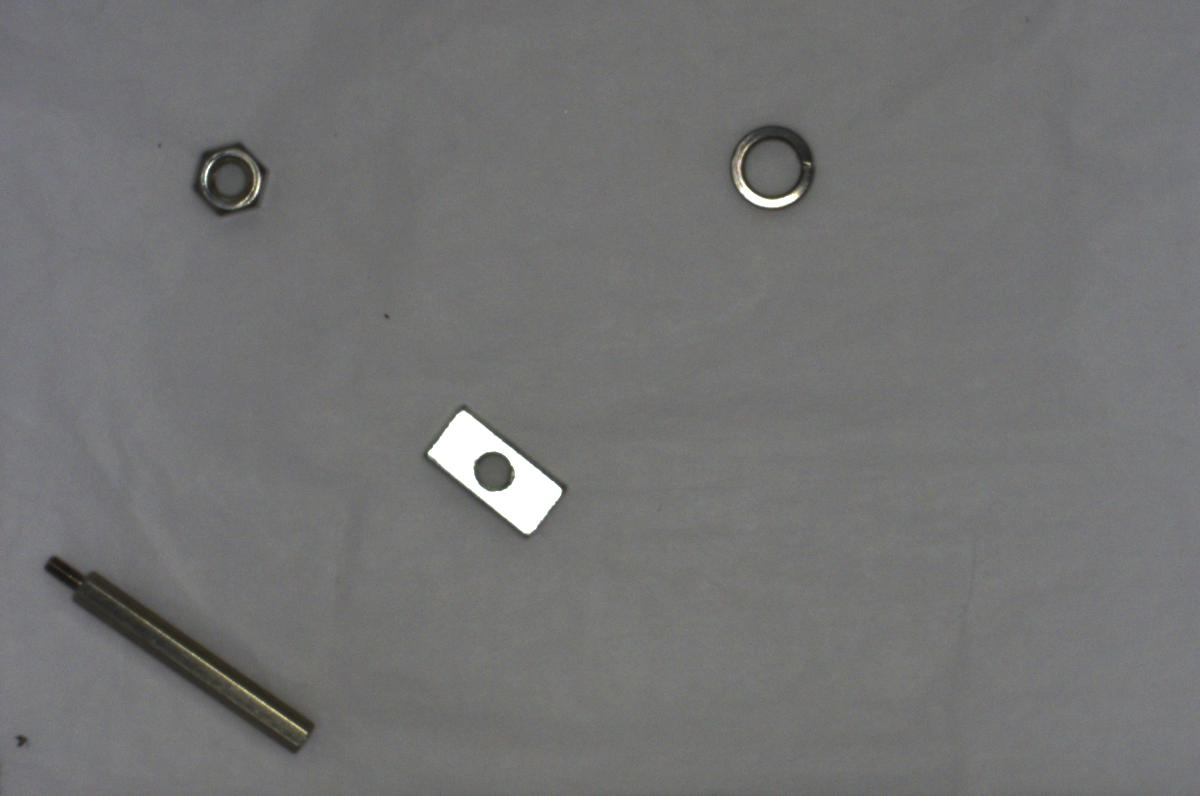Hexagon nut: (184, 133, 274, 219)
Hexagonal steel column: (39, 546, 320, 754)
Rectangular nut: (421, 395, 566, 540)
Spring washer: (721, 116, 822, 213)
